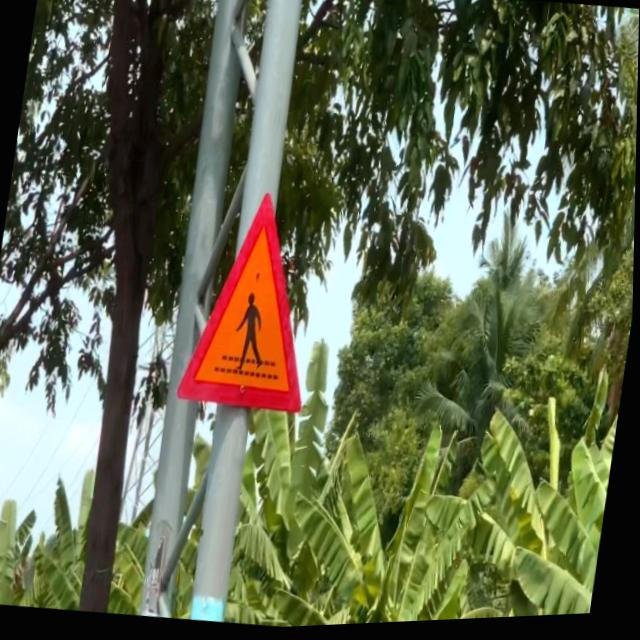Nguoi di bo cat ngang: (169, 170, 342, 437)
